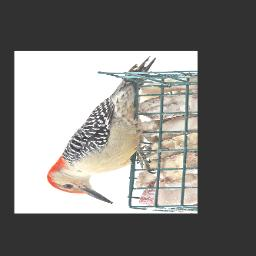Woodpecker: (47, 55, 158, 206)
